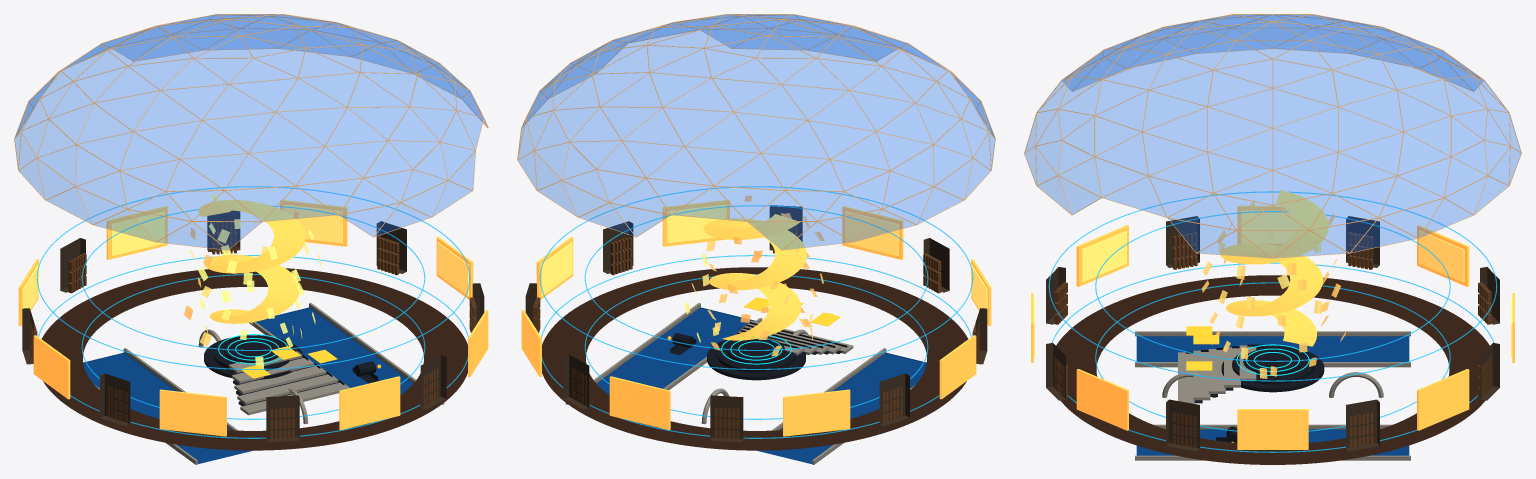
Rendered from wuzhen_history_cultural_hall.glb.
The picture shows the model from 3 angles, left to right: view 1: azimuth 30°, elevation 25°; view 2: azimuth 150°, elevation 25°; view 3: azimuth 270°, elevation 25°; orthographic projection. The views are drawn at different scales.
Visible parts, largest first — view 1: Geodesic_Glass_Dome, Archive_Gallery_Ring_0, Geodesic_Metal_Wireframe_Applied, Spiral_Scroll_History_Content, Indoor_Canal_Right, Indoor_Canal_Left, Historical_Widescreen_Frame_05, Historical_Widescreen_Frame_06, Historical_Illuminated_Panel_02, Archive_Glass_Rail_1_13.9, Historical_Widescreen_Frame_04, Historical_Illuminated_Panel_01 (+24 smaller); view 2: Geodesic_Glass_Dome, Archive_Gallery_Ring_0, Geodesic_Metal_Wireframe_Applied, Spiral_Scroll_History_Content, Indoor_Canal_Right, Indoor_Canal_Left, Historical_Widescreen_Frame_03, Historical_Widescreen_Frame_02, Historical_Illuminated_Panel_06, Archive_Glass_Rail_1_13.9, Historical_Widescreen_Frame_04, Historical_Illuminated_Panel_07 (+20 smaller); view 3: Geodesic_Glass_Dome, Archive_Gallery_Ring_0, Geodesic_Metal_Wireframe_Applied, Spiral_Scroll_History_Content, Indoor_Canal_Left, Historical_Widescreen_Frame_00, Historical_Widescreen_Frame_01, Historical_Widescreen_Frame_07, Archive_Glass_Rail_1_13.9, Historical_Illuminated_Panel_04, Historical_Illuminated_Panel_05, Historical_Illuminated_Panel_03 (+24 smaller).
Boxes of the visible parts, x1,y1,x2,y2 form: Geodesic_Glass_Dome: (15,14,486,249); Archive_Gallery_Ring_0: (42,268,467,450); Geodesic_Metal_Wireframe_Applied: (14,14,488,250); Spiral_Scroll_History_Content: (198,200,305,323); Indoor_Canal_Right: (255,307,413,394); Indoor_Canal_Left: (83,352,252,463); Historical_Widescreen_Frame_05: (159,389,226,436); Historical_Widescreen_Frame_06: (339,376,400,430); Historical_Illuminated_Panel_02: (111,211,164,255); Archive_Glass_Rail_1_13.9: (36,186,470,369); Historical_Widescreen_Frame_04: (33,335,70,399); Historical_Illuminated_Panel_01: (283,204,342,243); Geodesic_Glass_Dome: (518,14,994,249); Archive_Gallery_Ring_0: (542,267,967,450); Geodesic_Metal_Wireframe_Applied: (517,14,995,250); Spiral_Scroll_History_Content: (703,214,806,340); Indoor_Canal_Right: (596,307,755,394); Indoor_Canal_Left: (757,352,926,463); Historical_Widescreen_Frame_03: (783,389,850,436); Historical_Widescreen_Frame_02: (609,376,670,430); Historical_Illuminated_Panel_06: (845,211,898,255); Archive_Glass_Rail_1_13.9: (539,186,973,369); Historical_Widescreen_Frame_04: (939,335,976,399); Historical_Illuminated_Panel_07: (667,204,726,243); Geodesic_Glass_Dome: (1025,15,1520,257); Archive_Gallery_Ring_0: (1056,275,1489,464); Geodesic_Metal_Wireframe_Applied: (1024,14,1521,258); Spiral_Scroll_History_Content: (1220,190,1328,346); Indoor_Canal_Left: (1136,335,1409,361); Historical_Widescreen_Frame_00: (1237,409,1308,449); Historical_Widescreen_Frame_01: (1417,369,1469,430); Historical_Widescreen_Frame_07: (1076,369,1128,430); Archive_Glass_Rail_1_13.9: (1048,191,1497,381); Historical_Illuminated_Panel_04: (1241,210,1295,243); Historical_Illuminated_Panel_05: (1081,230,1126,282); Historical_Illuminated_Panel_03: (1419,231,1464,282).
Size of the model in its own units: 31.05 by 23.4 by 31.05.
